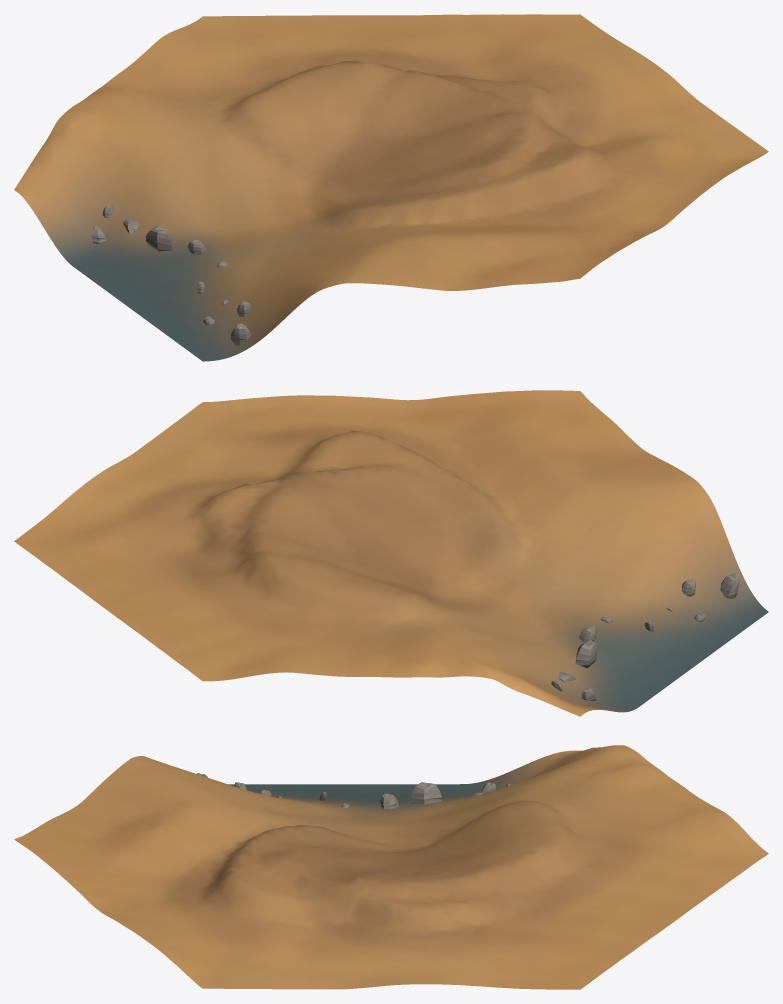
File: costa_-04_+01.glb
3 renders of one model, top to bottom at view 1: azimuth 30°, elevation 25°; view 2: azimuth 150°, elevation 25°; view 3: azimuth 270°, elevation 25°, orthographic.
Parts seen in each view (by area): view 1: terrain, Formações costeiras; view 2: terrain, Formações costeiras; view 3: terrain, Formações costeiras.
Part boxes in pixels (x1,y1,x2,y2): terrain: (14,14,768,361); Formações costeiras: (91,205,251,345); terrain: (14,390,768,716); Formações costeiras: (551,573,739,700); terrain: (14,745,768,989); Formações costeiras: (196,773,511,808).
Bounding box in the file's own units: 4330 × 700 × 5000.
Materials: 1 (1 with a texture image).
